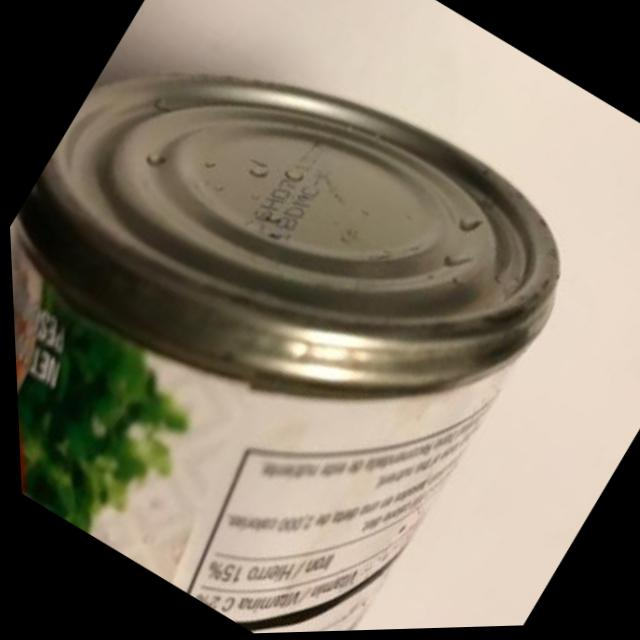metal: (0, 0, 633, 640)
